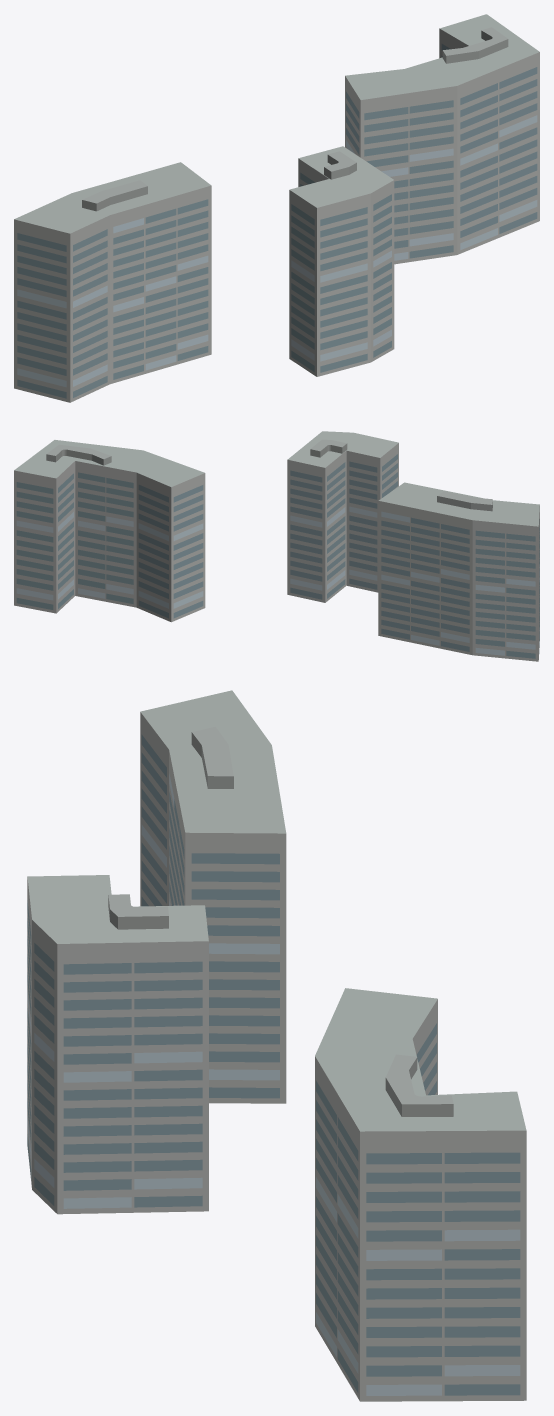
File: apt-a15886501.glb
3 renders of one model, top to bottom at view 1: azimuth 30°, elevation 25°; view 2: azimuth 150°, elevation 25°; view 3: azimuth 270°, elevation 25°, orthographic. The views are drawn at different scales.
Visible parts, largest first — view 1: apt-a15886501; view 2: apt-a15886501; view 3: apt-a15886501.
Part boxes in pixels (x1,y1,x2,y2): apt-a15886501: [14, 14, 539, 402]; apt-a15886501: [14, 431, 539, 661]; apt-a15886501: [27, 690, 526, 1401].
Bounding box in the file's own units: 137 × 41 × 65.55.
